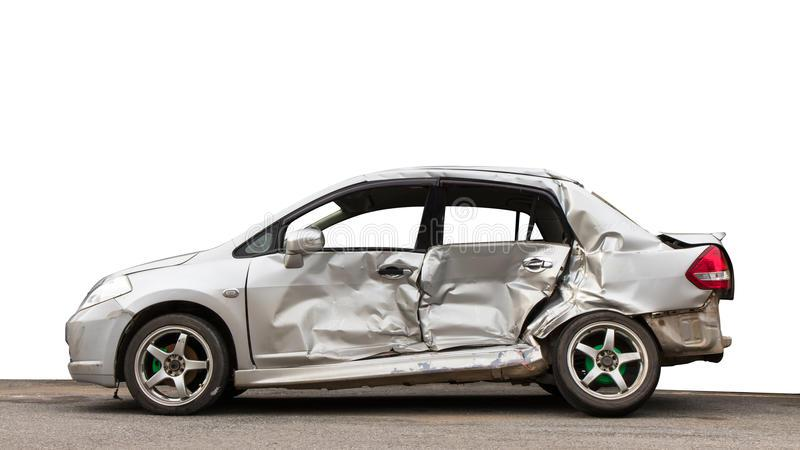RunningBoard-Dent: (237, 354, 439, 387), (412, 352, 551, 384)
doorouter-dent: (253, 241, 421, 363), (415, 240, 564, 353)
quaterpanel-dent: (574, 239, 657, 349)
